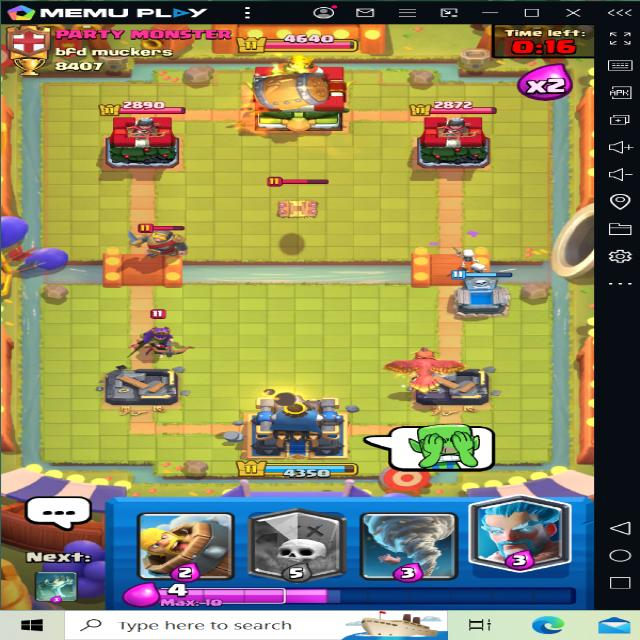archer-queen: (122, 303, 205, 367)
goblin-barrel: (237, 61, 332, 125)
knight: (119, 211, 217, 271)
tesla-closed: (262, 168, 333, 227)
